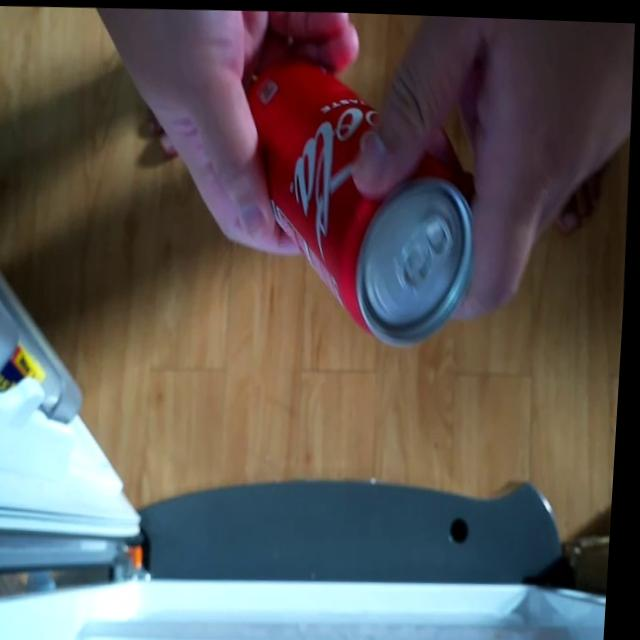coke: (228, 36, 489, 355)
